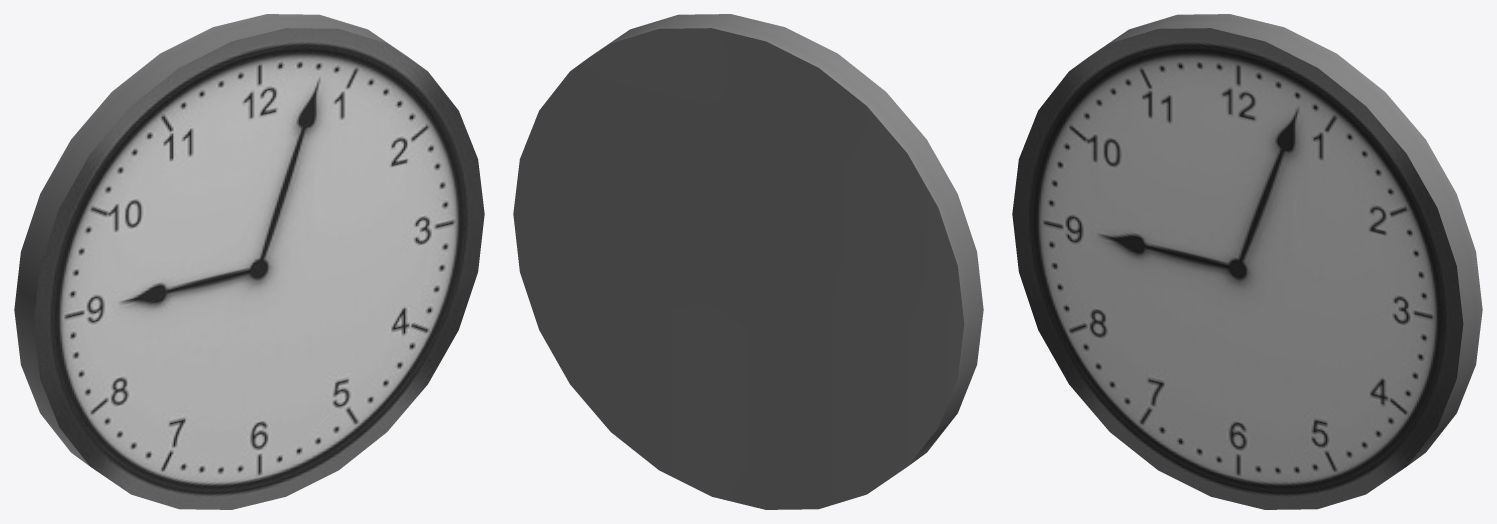
3 views of the same model, side by side, from view 1: azimuth 30°, elevation 25°; view 2: azimuth 150°, elevation 25°; view 3: azimuth 330°, elevation 25° (orthographic).
Visible parts, largest first — view 1: Cylinder001; view 2: Cylinder001; view 3: Cylinder001.
Part boxes in pixels (<box>): Cylinder001: <box>14,14,484,509</box>; Cylinder001: <box>513,14,983,509</box>; Cylinder001: <box>1012,14,1482,509</box>.
Bounding box in the file's own units: 0.5131 × 0.5093 × 0.038.
1 material, 1 textured.
